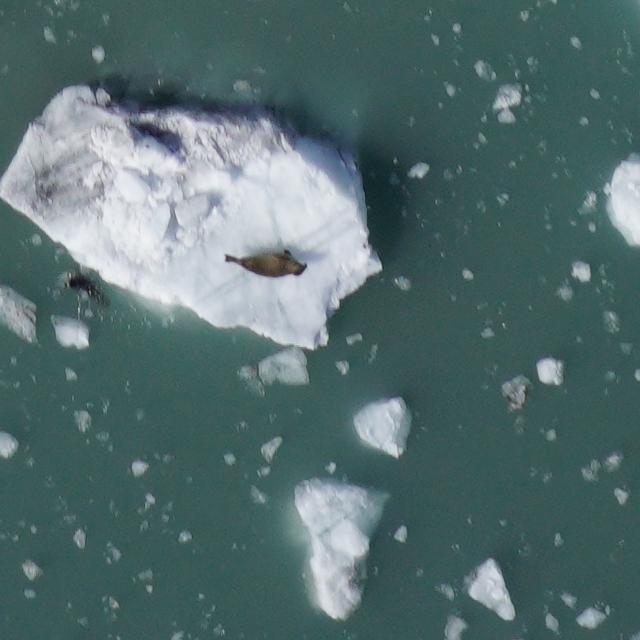seal: (219, 245, 311, 283)
